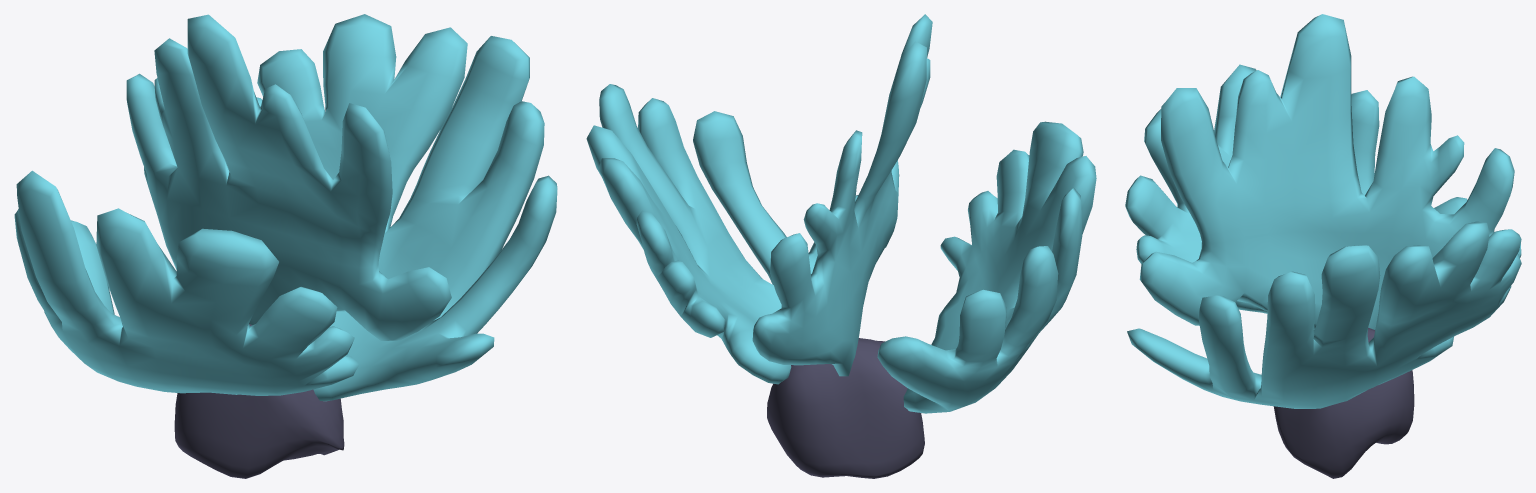
File: Elkhorn_03.fbx
The picture shows the model from 3 angles, left to right: view 1: azimuth 30°, elevation 25°; view 2: azimuth 150°, elevation 25°; view 3: azimuth 270°, elevation 25°; orthographic projection. The views are drawn at different scales.
Parts seen in each view (by area): view 1: Elkhorn_03_LOD0; view 2: Elkhorn_03_LOD0; view 3: Elkhorn_03_LOD0.
Part boxes in pixels (bbox=[...]): Elkhorn_03_LOD0: bbox=[14, 14, 557, 478]; Elkhorn_03_LOD0: bbox=[586, 14, 1096, 478]; Elkhorn_03_LOD0: bbox=[1125, 14, 1521, 478].
Size of what is drawn, in the model's own units: 1095 by 973 by 847.
